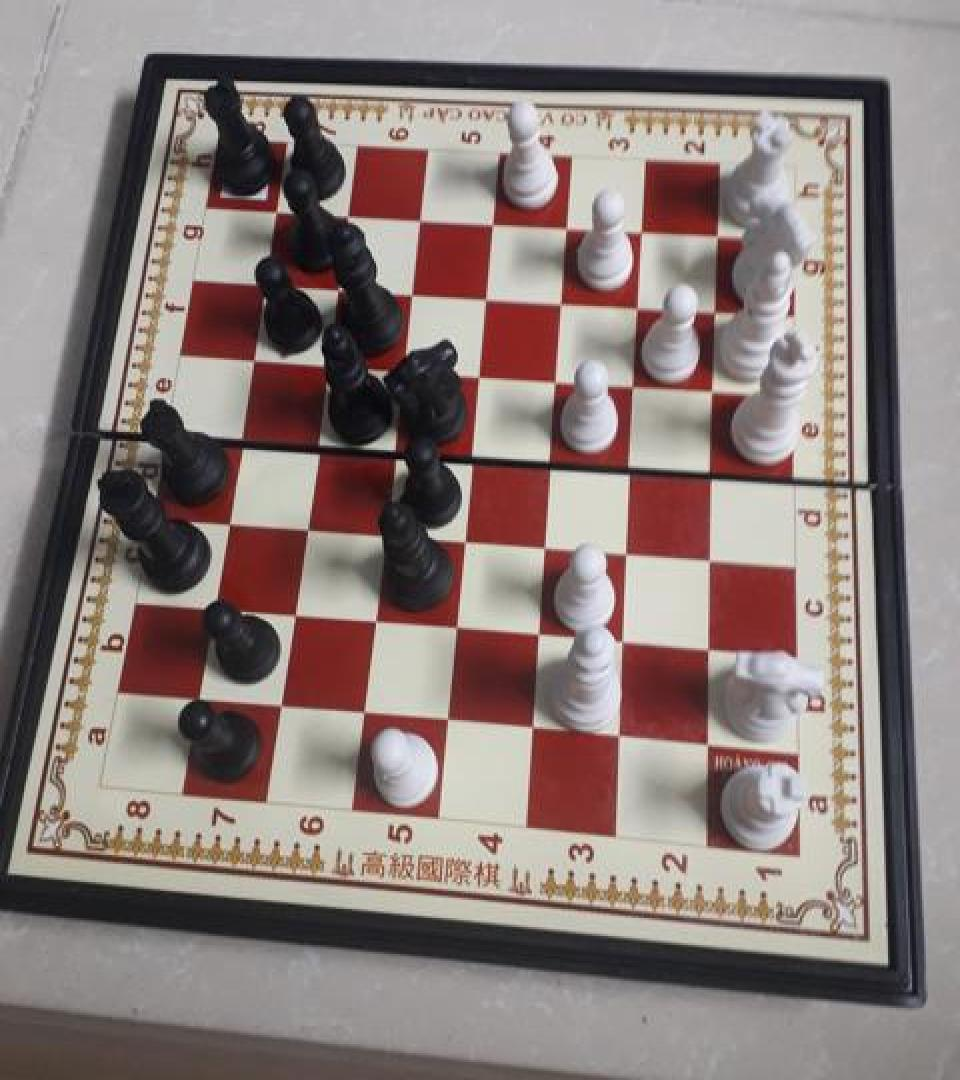xcorner: (478, 204, 508, 239), (183, 678, 213, 712), (265, 687, 295, 721), (348, 695, 378, 729), (432, 703, 462, 737), (517, 712, 547, 746), (604, 720, 634, 754), (691, 729, 721, 763), (198, 587, 228, 621), (278, 595, 308, 629), (358, 602, 388, 636), (440, 610, 470, 644), (524, 616, 554, 650), (608, 624, 638, 658), (693, 632, 723, 666), (290, 507, 320, 541), (369, 514, 399, 548), (449, 521, 479, 555), (530, 528, 560, 562), (612, 534, 642, 568), (695, 541, 725, 575), (226, 417, 256, 451), (302, 424, 332, 458), (379, 430, 409, 464), (457, 435, 487, 469), (536, 441, 566, 475), (697, 453, 727, 487), (238, 338, 268, 372), (313, 344, 343, 378), (388, 350, 418, 384), (464, 354, 494, 388), (542, 360, 572, 394), (620, 366, 650, 400), (699, 371, 729, 405), (251, 264, 281, 298), (323, 269, 353, 303), (397, 273, 427, 307), (471, 278, 501, 312), (547, 282, 577, 316), (623, 288, 653, 322), (262, 192, 292, 226), (333, 196, 363, 230), (405, 200, 435, 234), (552, 208, 582, 242), (627, 212, 657, 246), (702, 217, 732, 251), (212, 501, 242, 534), (616, 448, 646, 481), (701, 293, 731, 326)
